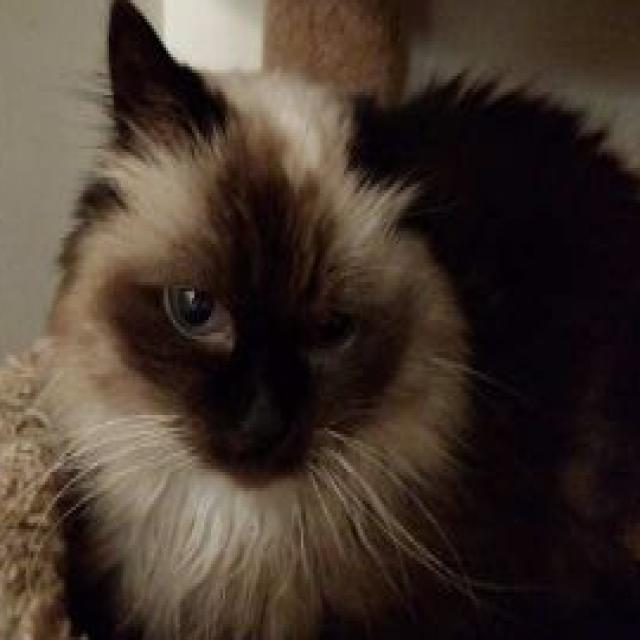Birman: (38, 0, 462, 640)
